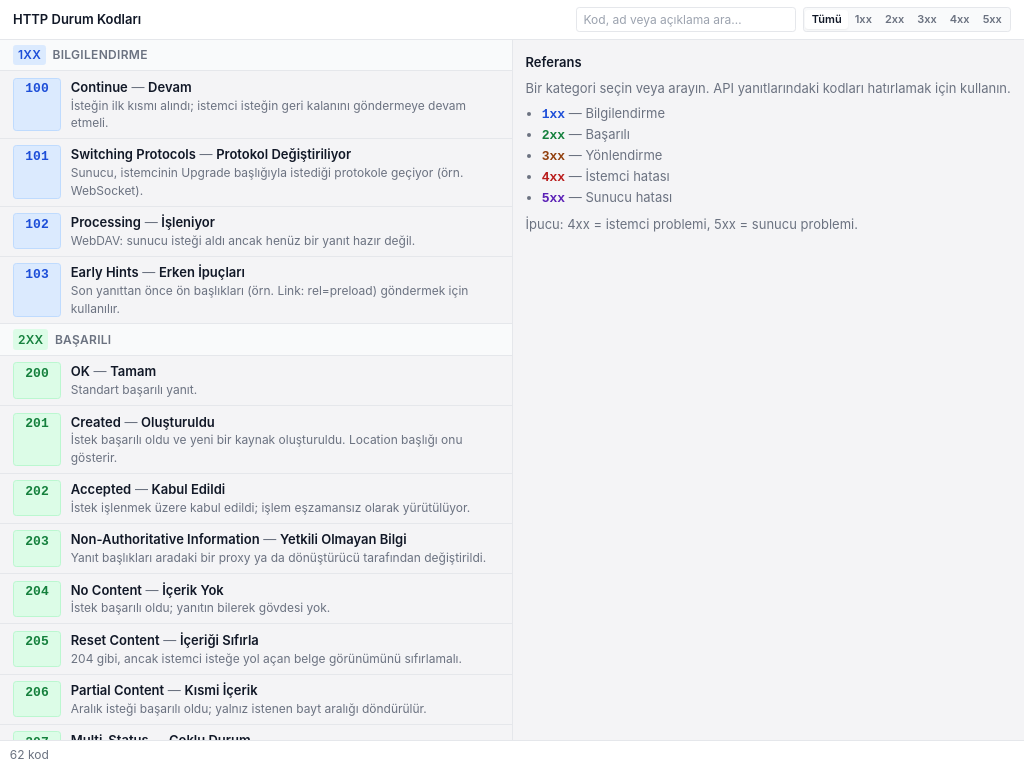
TR: search finds a code by number, English phrase and Turkish text › a query nothing matches shows the empty state
Type "zzzz-no-such-status" into the field with placeholder "Kod, ad veya açıklama ara…" at (686, 19), box top-left (576, 6), bottom-right (796, 32)
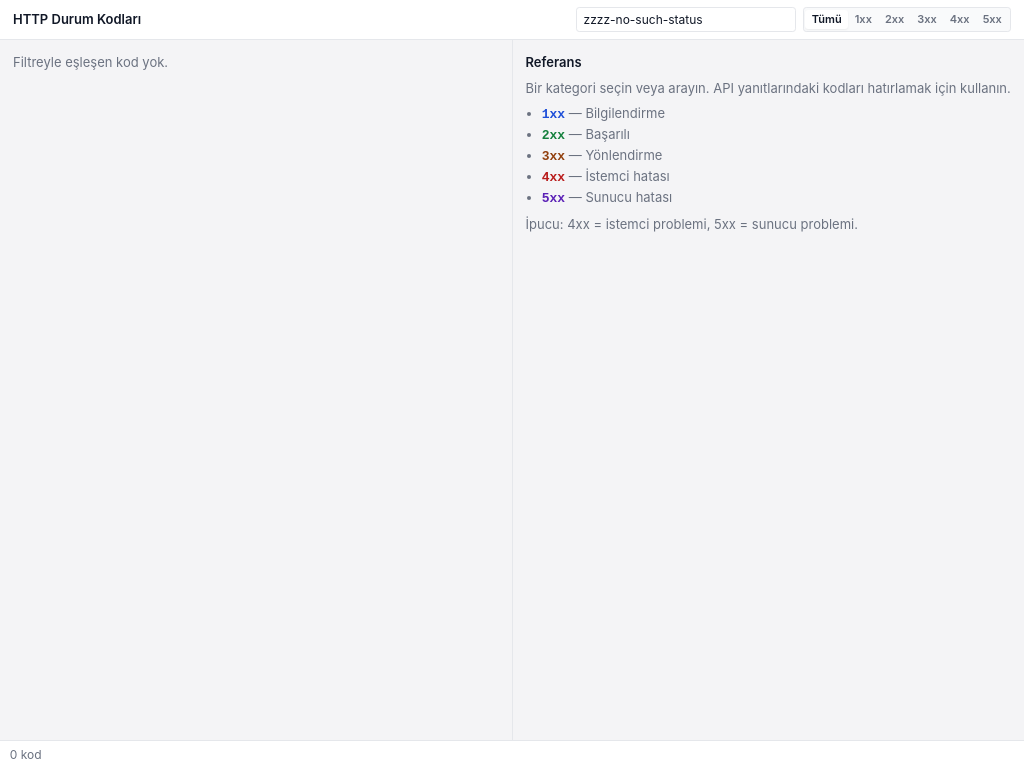
expect the text "Filtreyle eşleşen kod yok." is shown: met, box top-left (13, 54), bottom-right (168, 70)
